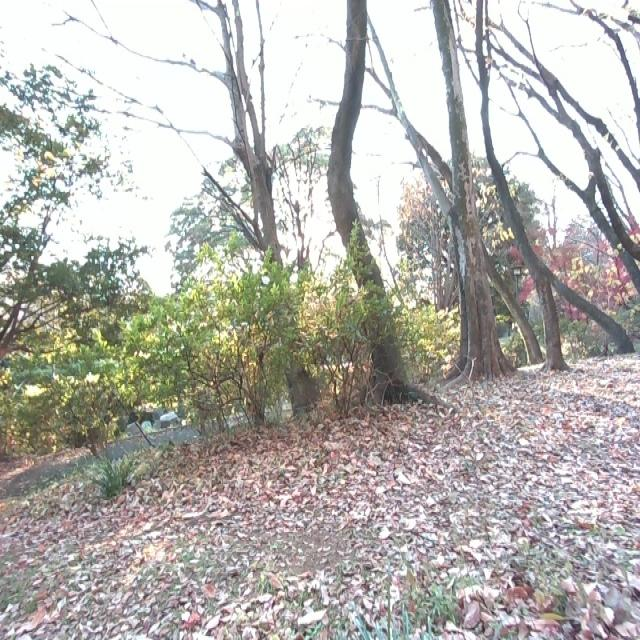bush: (136, 255, 446, 423), (0, 370, 144, 460)
tree: (77, 0, 322, 419), (402, 1, 624, 362), (358, 0, 523, 388), (326, 0, 428, 415)
